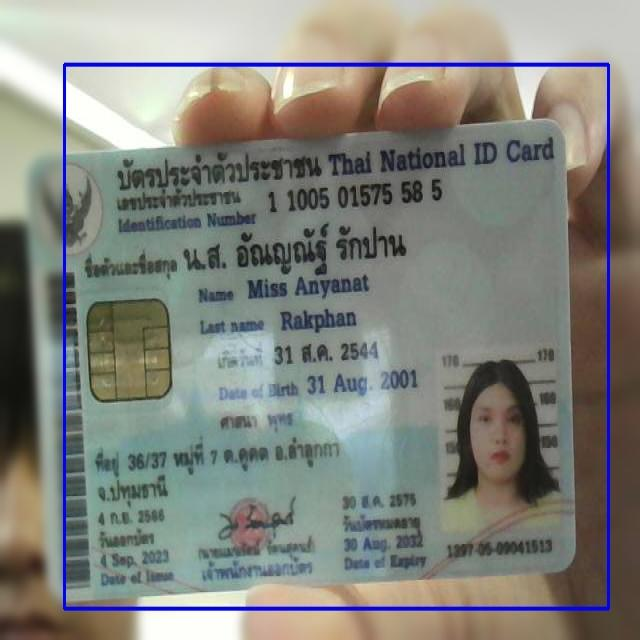Address_th: (91, 431, 341, 508)
Date_of_Birth: (302, 365, 423, 402)
Date_of_Expiry: (339, 530, 429, 560)
Date_of_Issue: (99, 548, 174, 570)
First_Name: (240, 273, 372, 304)
ID_Number: (264, 177, 447, 216)
Image: (435, 346, 564, 538)
Last_Name: (275, 306, 363, 337)
Thai_Name: (179, 220, 422, 277)
